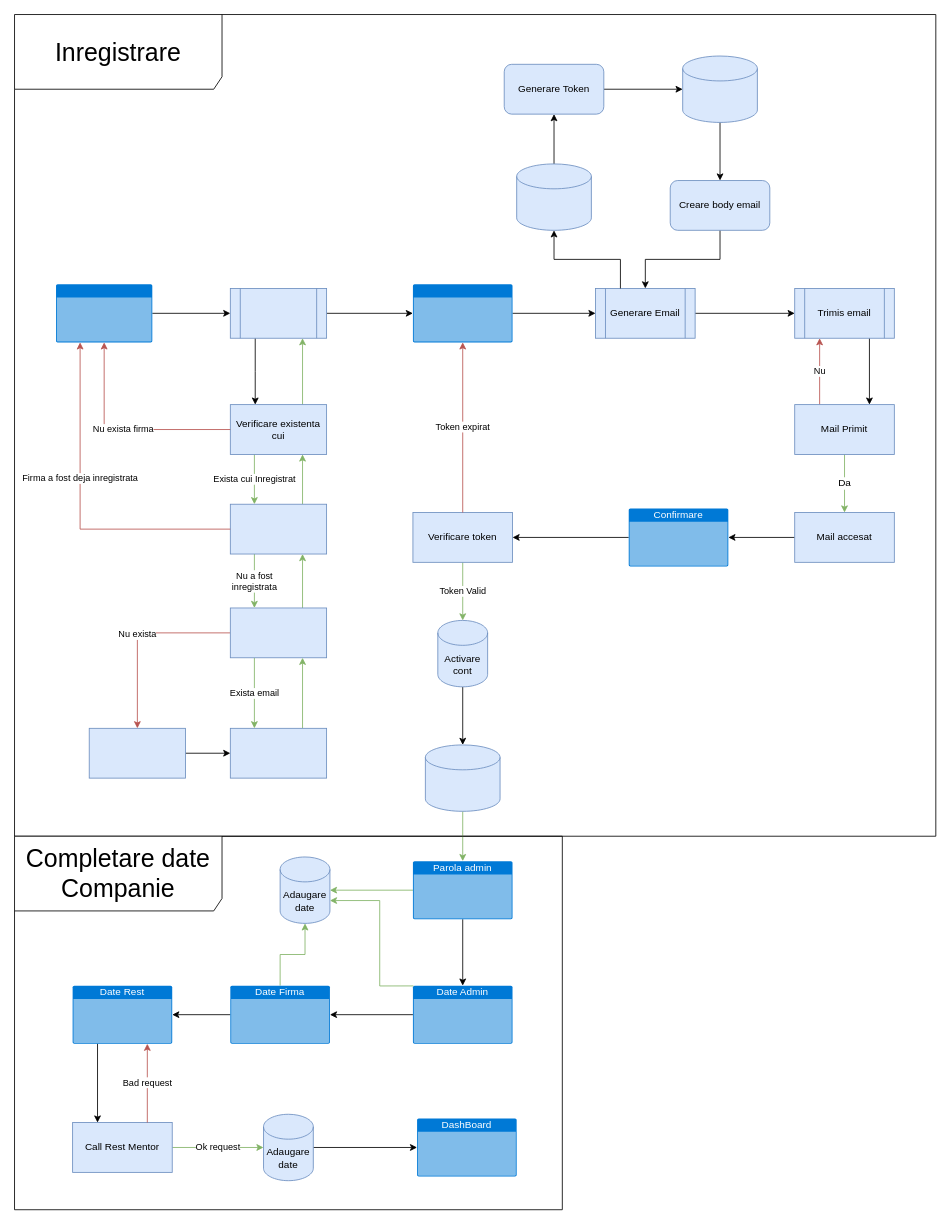
Some shapes in this 950 by 1224 pixel diagram are drawn without their labels. The box of each missing label's shape, as (x1, y1, x2, y2) in pixels:
Adaugat token: (682, 55, 757, 122)
Atribuie rol de admin la firma: (229, 727, 327, 778)
Atribuire parola Admin: (516, 163, 591, 230)
Creare user: (88, 727, 186, 778)
Date Conectare: (56, 284, 152, 342)
Firma inregistrata: (425, 744, 500, 811)
Trimitere mail: (413, 284, 512, 342)
Verificare Date: (229, 288, 327, 338)
Verificare Email admin: (229, 607, 327, 658)
Verificare inregistrare firma: (229, 503, 327, 554)
